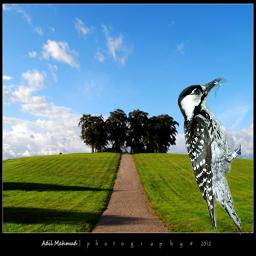Woodpecker: (177, 77, 241, 235)
